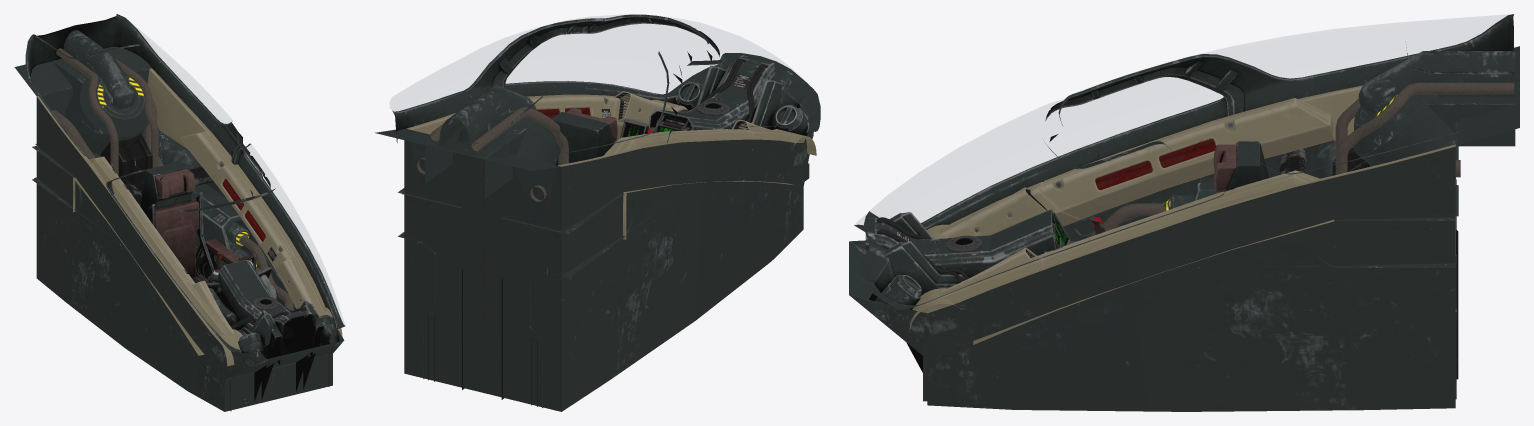
The model's file is cockpit.glb.
The picture shows the model from 3 angles, left to right: view 1: azimuth 30°, elevation 25°; view 2: azimuth 150°, elevation 25°; view 3: azimuth 270°, elevation 25°; orthographic projection. The views are drawn at different scales.
Parts seen in each view (by area): view 1: cockpit, center; view 2: cockpit, center; view 3: cockpit, center.
Part boxes in pixels (x1,y1,x2,y2): cockpit: (14, 30, 344, 411); center: (25, 14, 345, 401); cockpit: (375, 86, 816, 411); center: (392, 14, 820, 165); cockpit: (849, 46, 1519, 411); center: (854, 14, 1513, 372).
Bounding box in the file's own units: 1.05 × 1.66 × 3.05.
5 materials, 4 textured.
